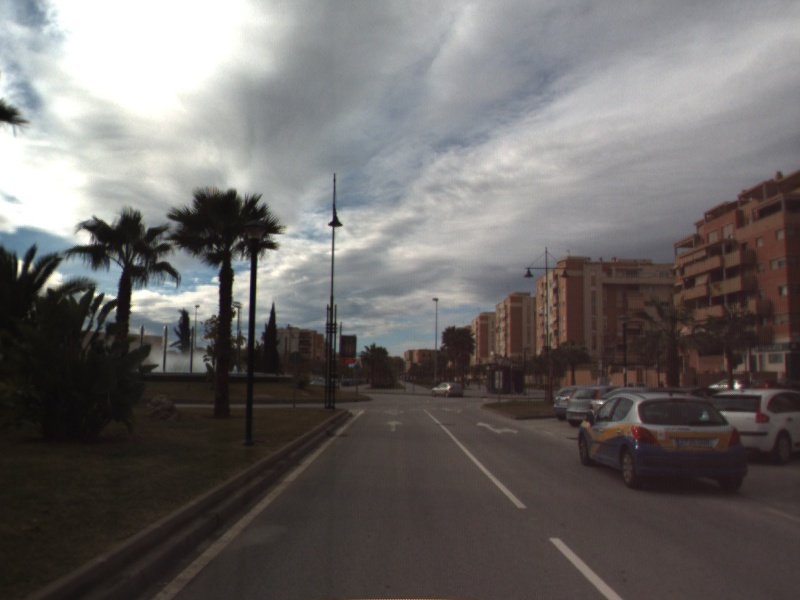STRAIGHT: (384, 419, 404, 433)
STRAIGHT_RIGHT: (474, 420, 520, 436)
